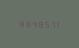eight: (35, 19, 40, 28), (17, 19, 22, 27), (23, 19, 28, 27)
five: (41, 20, 46, 28)
four: (29, 19, 34, 27)
one: (53, 20, 58, 28)
seven: (47, 20, 52, 28)
